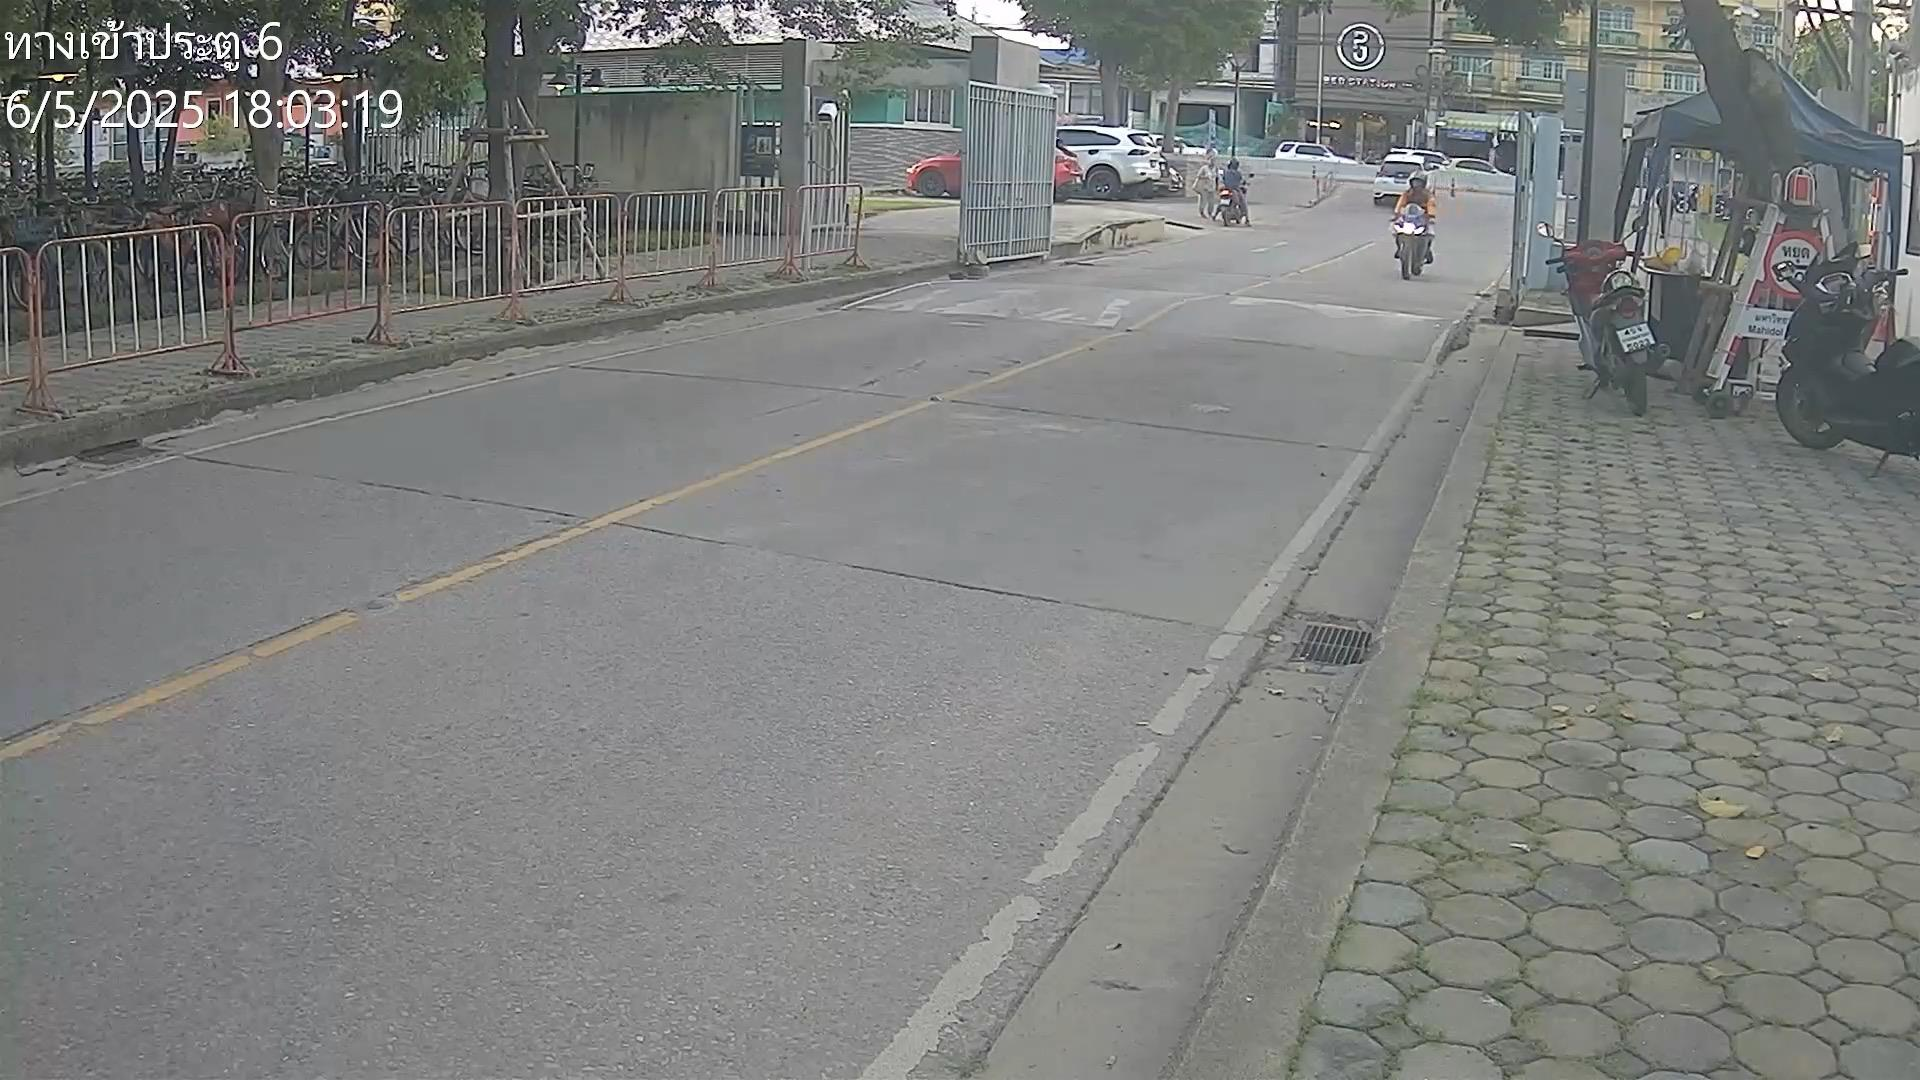With-Helmet: (1407, 170, 1428, 189)
